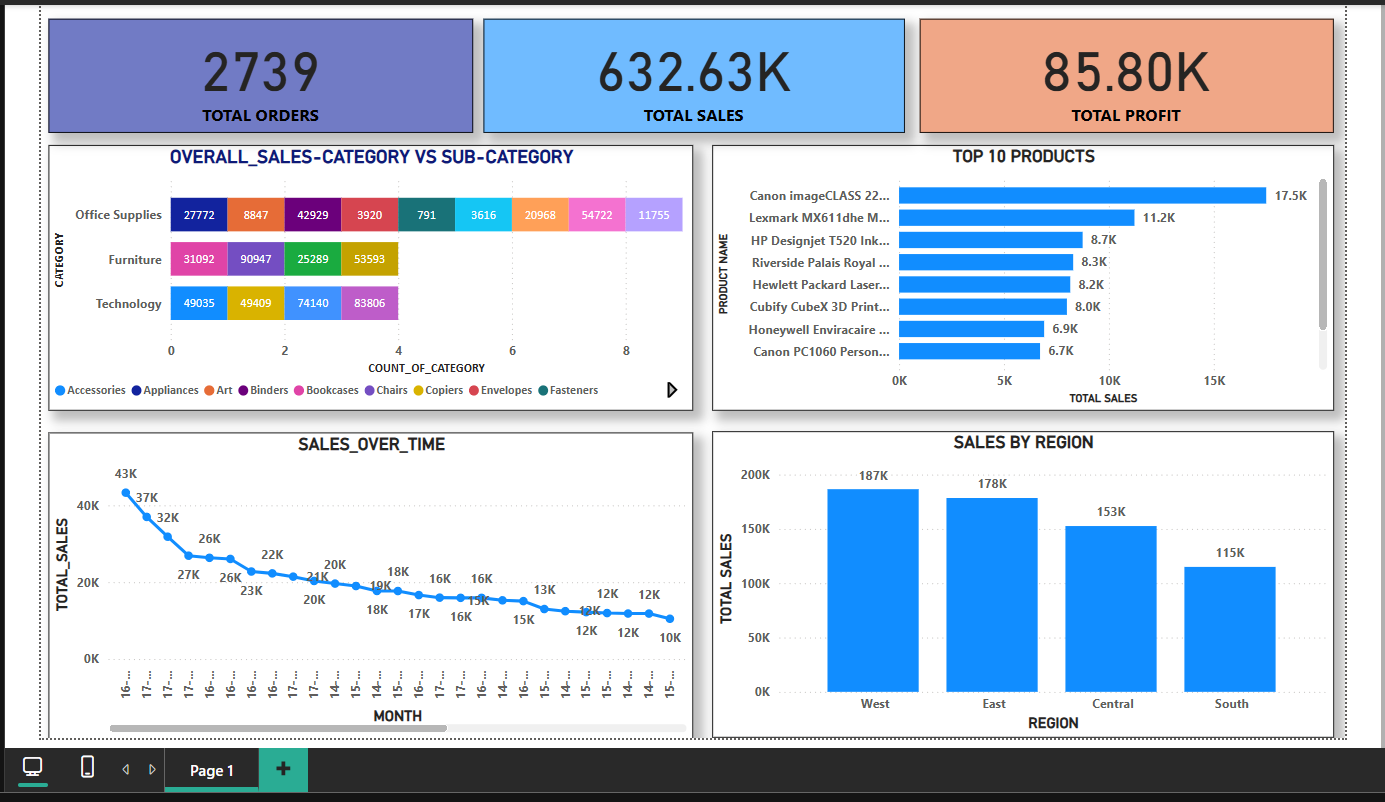

The page's visual inventory and layout, read from the dashboard file:
{"tool":"powerbi","page":{"name":"Page 1","canvas":[1280,720],"ordinal":0},"visuals":[{"type":"barChart","title":"OVERALL_SALES-CATEGORY VS SUB-CATEGORY","fields":{"Category":["Sales_by_category_sub_category.category"],"Series":["Sales_by_category_sub_category.sub_category"],"Y":["CountNonNull(Sales_by_category_sub_category.category)"]},"box":[7.1,136.8,632.9,260.8],"z":0},{"type":"lineChart","title":"SALES_OVER_TIME","fields":{"Category":["Sales_trend_over_time.month"],"Y":["Sum(Sales_trend_over_time.total_sales)"]},"box":[7.1,419.1,632.9,300.8],"z":1000},{"type":"clusteredBarChart","title":"TOP 10 PRODUCTS","fields":{"Category":["Top_10_products.product_name"],"Y":["Sum(Top_10_products.total_sales)"]},"box":[658.5,136.8,610.1,260.8],"z":2000},{"type":"columnChart","title":"SALES BY REGION","fields":{"Category":["sales_region.region"],"Y":["Sum(sales_region.total_sales)"]},"box":[659,419,610,301],"z":3000},{"type":"card","fields":{"Values":["Superstore_main_table.TOTAL ORDERS"]},"box":[7.4,13.5,417.2,111.7],"z":4000},{"type":"card","fields":{"Values":["Superstore_main_table.TOTAL SALES"]},"box":[434.4,13.5,413.5,111.7],"z":5000},{"type":"card","fields":{"Values":["Superstore_main_table.TOTAL PROFIT"]},"box":[862.6,13.5,406.1,111.7],"z":6000}]}

Visuals, with their boxes in screenshot pixels (x1, y1, x2, y2):
"OVERALL_SALES-CATEGORY VS SUB-CATEGORY" barChart: x1=40 y1=141 x2=691 y2=409
"SALES_OVER_TIME" lineChart: x1=40 y1=431 x2=691 y2=741
"TOP 10 PRODUCTS" clusteredBarChart: x1=710 y1=141 x2=1338 y2=409
"SALES BY REGION" columnChart: x1=711 y1=431 x2=1339 y2=741
card - Superstore_main_table.TOTAL ORDERS: x1=40 y1=14 x2=469 y2=129
card - Superstore_main_table.TOTAL SALES: x1=480 y1=14 x2=905 y2=129
card - Superstore_main_table.TOTAL PROFIT: x1=920 y1=14 x2=1338 y2=129
